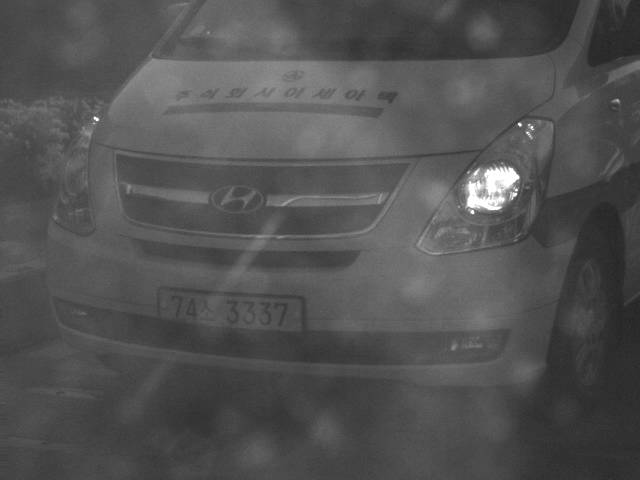car: (45, 1, 640, 428)
plate: (155, 286, 308, 335)
